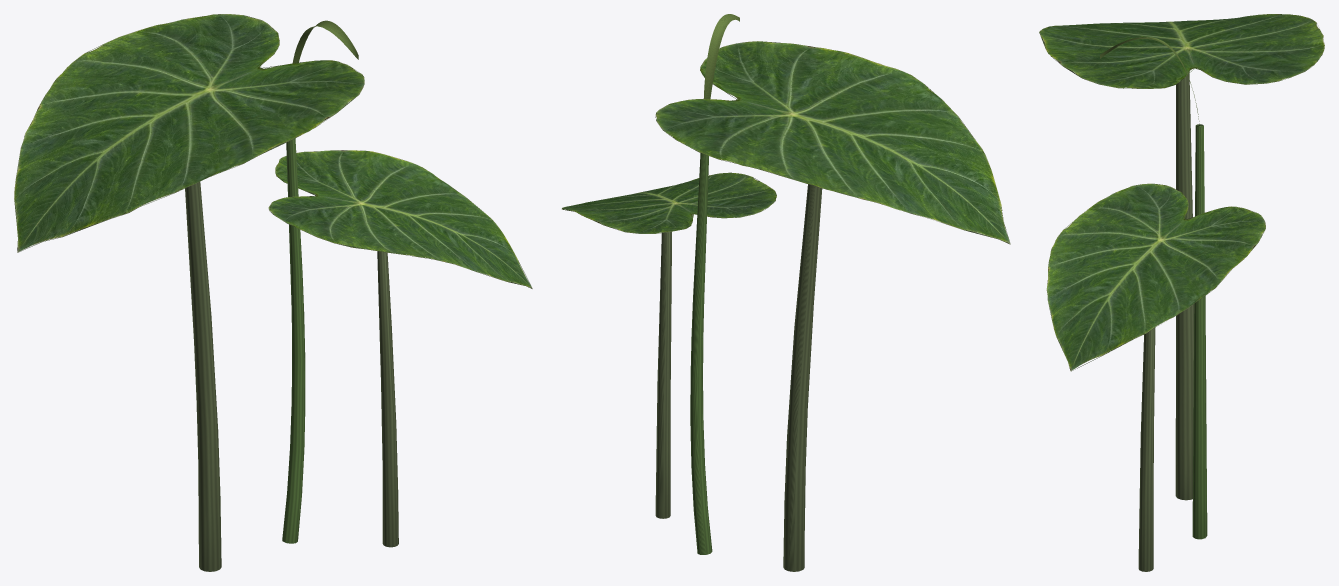
File: taro-1.glb
3 renders of one model, left to right at view 1: azimuth 30°, elevation 25°; view 2: azimuth 150°, elevation 25°; view 3: azimuth 270°, elevation 25°, orthographic. The views are drawn at different scales.
Parts seen in each view (by area): view 1: leaf, petiole, leaf-edge, new-leaf; view 2: leaf, petiole, new-leaf, leaf-edge; view 3: leaf, petiole, leaf-edge.
Boxes of the visible parts, x1,y1,x2,y2 form: leaf: [14, 14, 532, 288]; petiole: [185, 138, 398, 571]; leaf-edge: [14, 16, 532, 288]; new-leaf: [292, 20, 358, 63]; leaf: [562, 41, 1010, 243]; petiole: [655, 153, 822, 571]; new-leaf: [703, 14, 739, 99]; leaf-edge: [562, 41, 1010, 244]; leaf: [1039, 14, 1324, 371]; petiole: [1138, 72, 1207, 571]; leaf-edge: [1039, 14, 1314, 371].
Bounding box in the file's own units: 0.2427 × 0.2638 × 0.1353.
5 materials, 4 textured.
